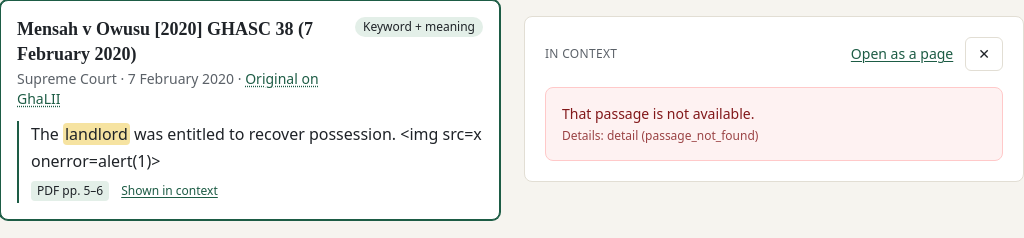
restoring a shared passage › says why a shared passage (passage_not_found) could not be shown, and closing clears it
Expected: the message shows "That passage is not available.", [562, 104, 754, 123]
Expected: the text "Choose “Show in context”" is not shown
Click the button named "Close the passage".
click(984, 54)  # box [965, 37, 1003, 71]
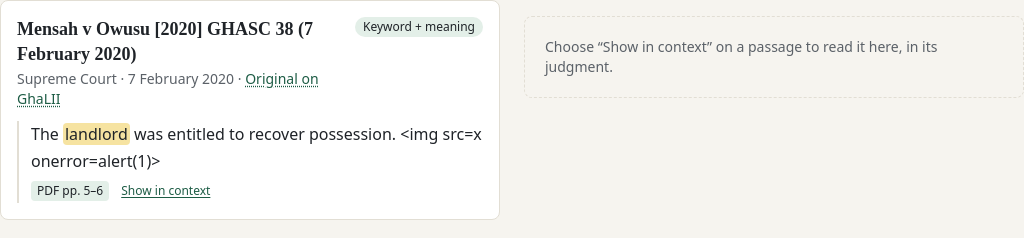
Expected: the text "Choose “Show in context”" is shown, [545, 37, 937, 76]
